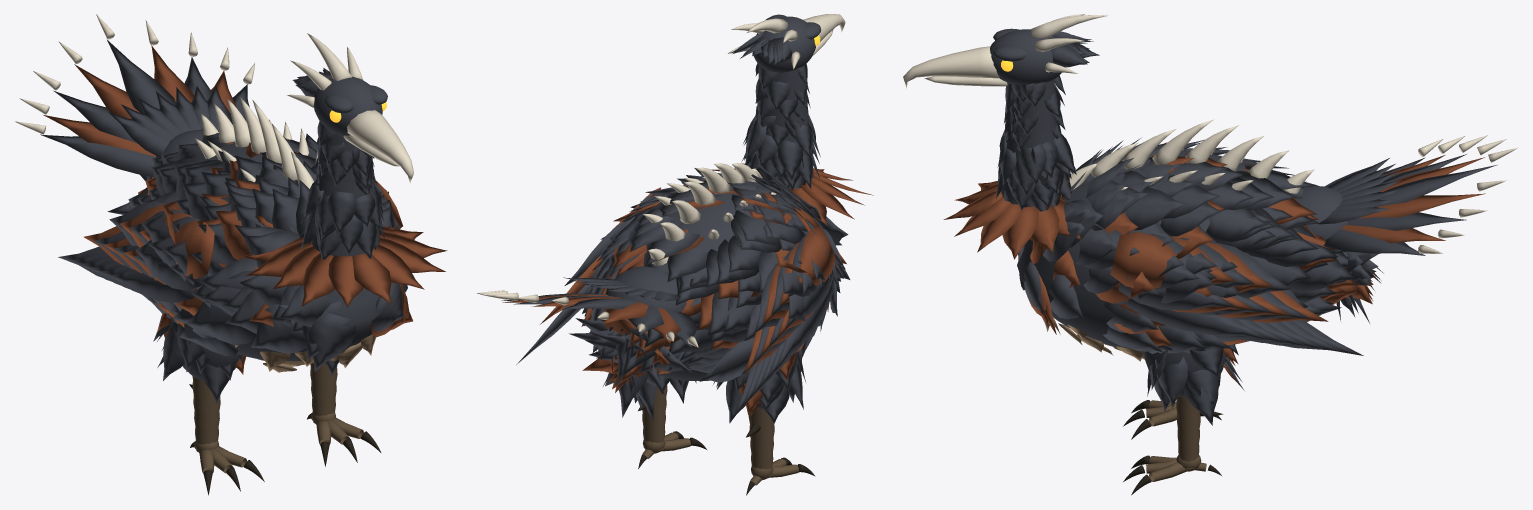
Rendered from thornbeak.glb.
The picture shows the model from 3 angles, left to right: view 1: azimuth 30°, elevation 25°; view 2: azimuth 150°, elevation 25°; view 3: azimuth 270°, elevation 25°; orthographic projection. The views are drawn at different scales.
Visible parts, largest first — view 1: BodyMesh, TailMesh, Neck1Mesh, HeadMesh, ThighR, Neck2Mesh, ShinR, FootL, FootR, ShinL; view 2: BodyMesh, TailMesh, Neck1Mesh, HeadMesh, Neck2Mesh, ThighR, ShinR, ShinL, FootL, FootR; view 3: BodyMesh, TailMesh, Neck1Mesh, HeadMesh, ThighL, Neck2Mesh, FootL, ShinL, FootR, JawMesh.
Part boxes in pixels (bbox=[...]): BodyMesh: bbox=[58, 96, 412, 372]; TailMesh: bbox=[15, 14, 254, 176]; Neck1Mesh: bbox=[240, 169, 447, 307]; HeadMesh: bbox=[286, 33, 413, 183]; ThighR: bbox=[153, 313, 245, 404]; Neck2Mesh: bbox=[315, 121, 377, 194]; ShinR: bbox=[189, 376, 220, 452]; FootL: bbox=[307, 412, 381, 466]; FootR: bbox=[190, 440, 264, 495]; ShinL: bbox=[310, 363, 337, 423]; BodyMesh: bbox=[516, 163, 850, 421]; TailMesh: bbox=[477, 266, 698, 347]; Neck1Mesh: bbox=[712, 106, 872, 225]; HeadMesh: bbox=[728, 14, 845, 72]; Neck2Mesh: bbox=[755, 63, 810, 147]; ThighR: bbox=[713, 349, 805, 424]; ShinR: bbox=[746, 408, 774, 477]; ShinL: bbox=[638, 385, 667, 451]; FootL: bbox=[638, 431, 706, 468]; FootR: bbox=[746, 457, 815, 495]; BodyMesh: bbox=[1017, 119, 1383, 361]; TailMesh: bbox=[1296, 135, 1518, 255]; Neck1Mesh: bbox=[943, 123, 1080, 259]; HeadMesh: bbox=[903, 14, 1107, 88]; ThighL: bbox=[1144, 344, 1244, 425]; Neck2Mesh: bbox=[1003, 75, 1065, 151]; FootL: bbox=[1123, 455, 1221, 495]; ShinL: bbox=[1176, 396, 1223, 469]; FootR: bbox=[1123, 400, 1221, 439]; JawMesh: bbox=[924, 76, 1007, 86].
Size of the model in its own units: 1.73 by 3.1 by 3.93.
